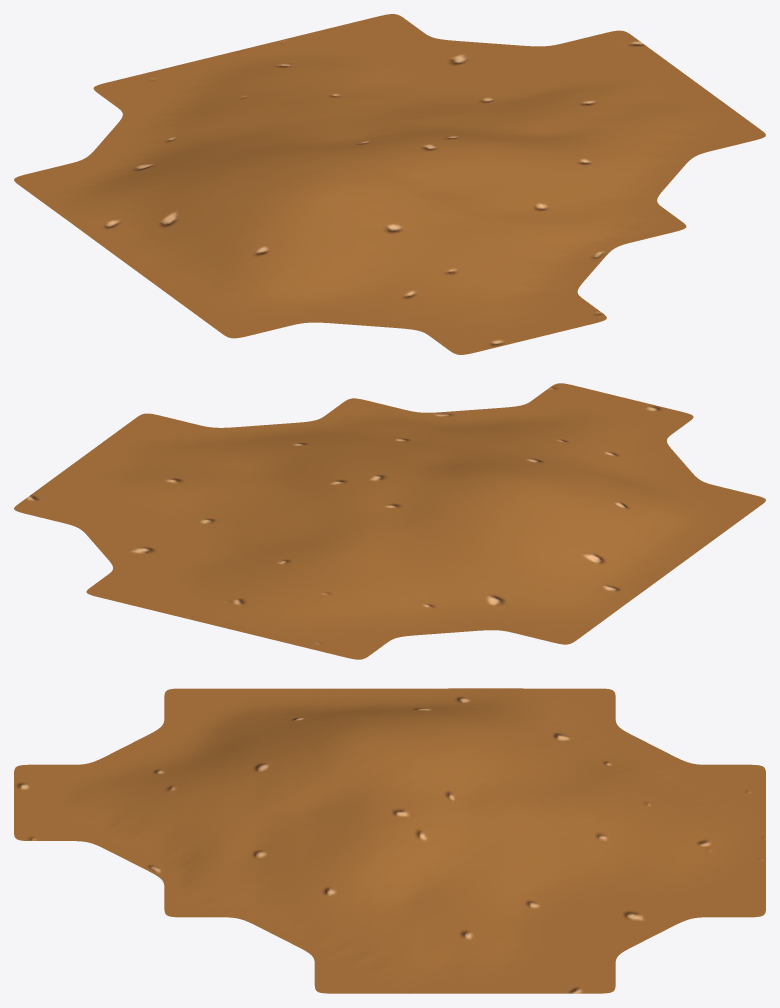
Rendered from Joule_Hills-flat_02.fbx.
The picture shows the model from 3 angles, top to bottom: view 1: azimuth 30°, elevation 25°; view 2: azimuth 150°, elevation 25°; view 3: azimuth 270°, elevation 25°; orthographic projection. The views are drawn at different scales.
Parts seen in each view (by area): view 1: Ground-Area1_hills_LOD0; view 2: Ground-Area1_hills_LOD0; view 3: Ground-Area1_hills_LOD0.
Boxes of the visible parts, left/top/right/bottom form: Ground-Area1_hills_LOD0: left=14, top=14, right=765, bottom=354; Ground-Area1_hills_LOD0: left=14, top=383, right=765, bottom=659; Ground-Area1_hills_LOD0: left=14, top=688, right=765, bottom=993.
Size of what is drawn, in the model's own units: 6400 by 423 by 6667.
